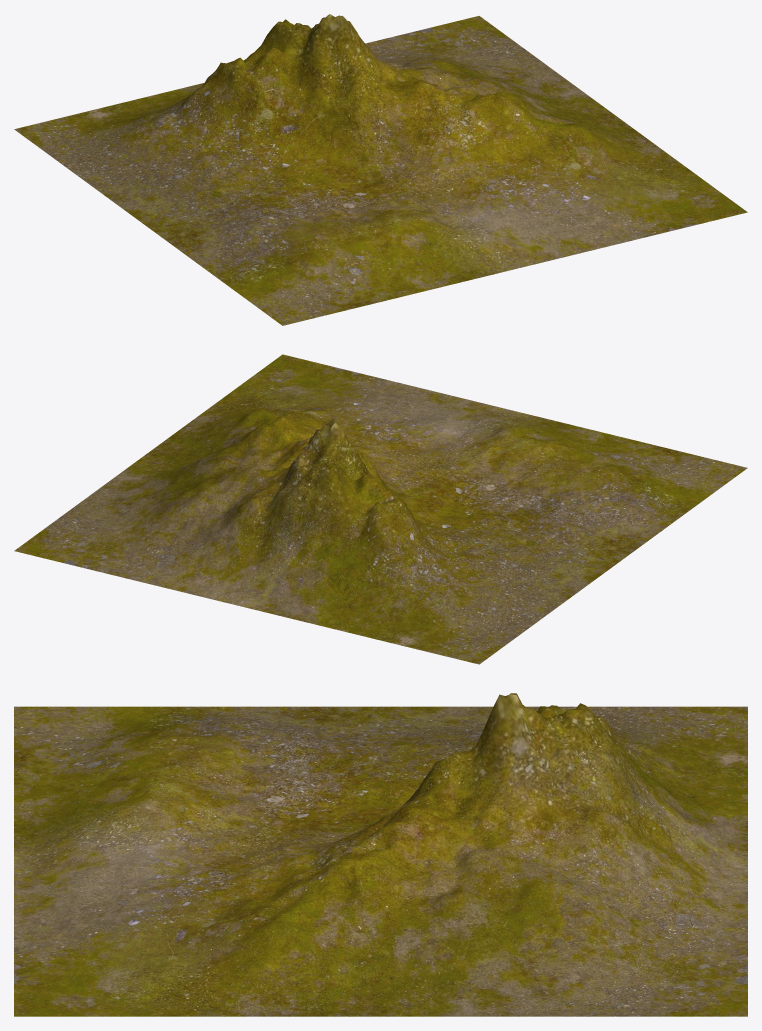
Rendered from mountain_opt.glb.
3 views of the same model, one above another, from view 1: azimuth 30°, elevation 25°; view 2: azimuth 150°, elevation 25°; view 3: azimuth 270°, elevation 25° (orthographic). The views are drawn at different scales.
Visible parts, largest first — view 1: Landscape; view 2: Landscape; view 3: Landscape.
Part boxes in pixels (x1,y1,x2,y2): Landscape: [14, 14, 747, 325]; Landscape: [14, 354, 747, 664]; Landscape: [14, 693, 747, 1016].
Size of the model in its own units: 2 by 0.5061 by 2.
1 material, 1 textured.
